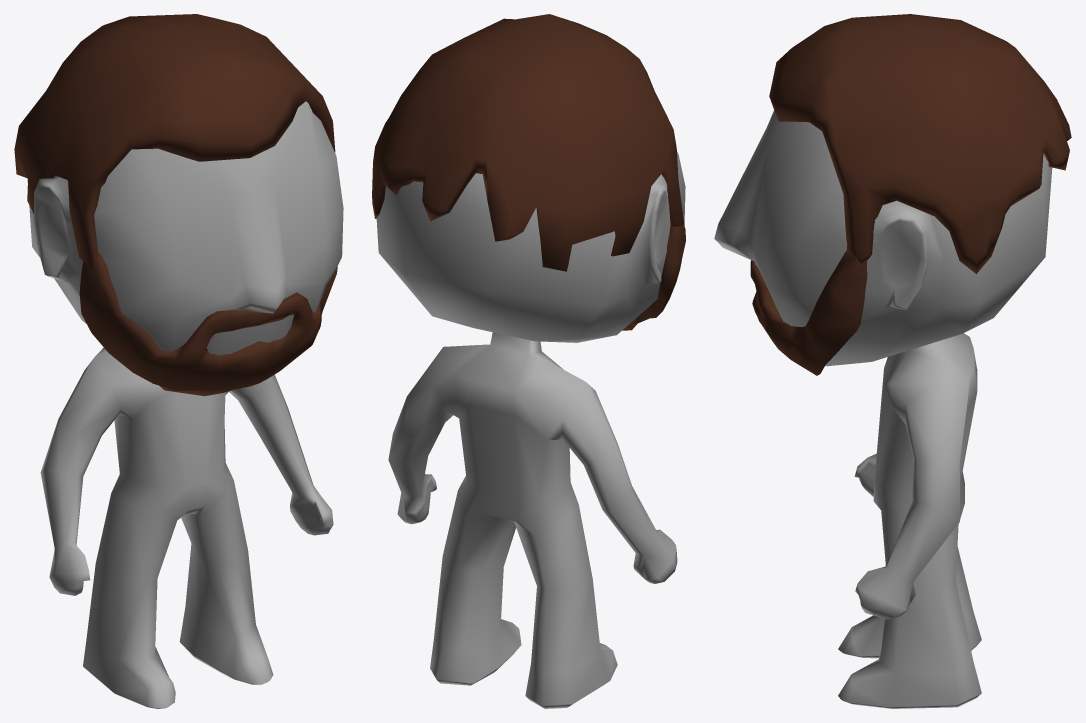
Rendered from Adam.fbx.
The picture shows the model from 3 angles, left to right: view 1: azimuth 30°, elevation 25°; view 2: azimuth 150°, elevation 25°; view 3: azimuth 270°, elevation 25°; orthographic projection.
Visible parts, largest first — view 1: Adam_body, Adam_head, Adam_hair_high, Adam_beard; view 2: Adam_body, Adam_hair_high, Adam_head, Adam_beard; view 3: Adam_hair_high, Adam_head, Adam_body, Adam_beard.
Boxes of the visible parts, bbox=[...] form: Adam_body: bbox=[40, 347, 333, 708]; Adam_head: bbox=[27, 101, 343, 355]; Adam_hair_high: bbox=[14, 14, 335, 267]; Adam_beard: bbox=[79, 252, 337, 396]; Adam_body: bbox=[388, 332, 677, 708]; Adam_hair_high: bbox=[372, 14, 684, 271]; Adam_head: bbox=[376, 151, 685, 342]; Adam_beard: bbox=[622, 224, 685, 330]; Adam_hair_high: bbox=[769, 14, 1071, 273]; Adam_head: bbox=[714, 110, 1052, 366]; Adam_body: bbox=[838, 333, 981, 708]; Adam_beard: bbox=[750, 250, 867, 375].
Bounding box in the file's own units: 460 × 1009 × 504.
